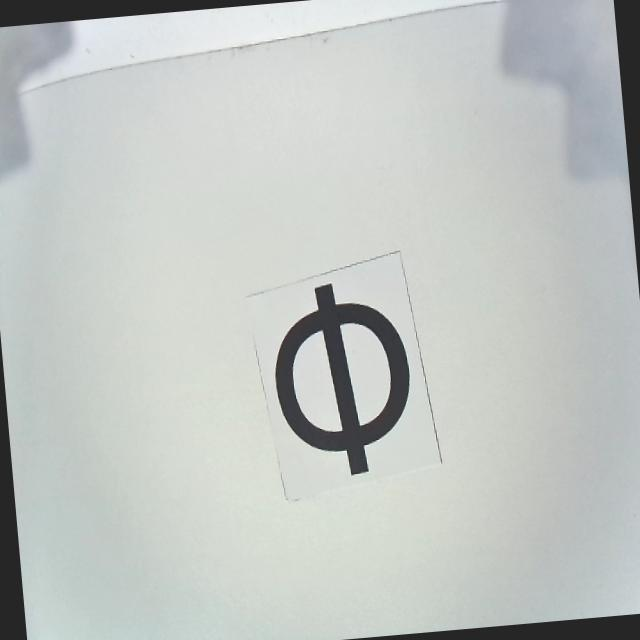F: (264, 274, 418, 483)
